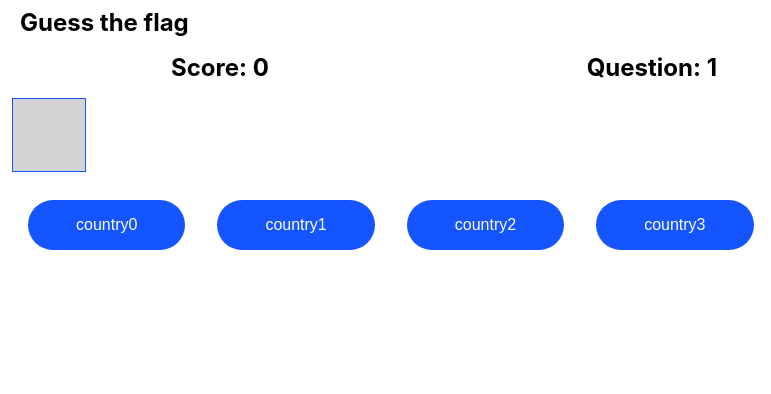
Test: <Game /> › should handle clicking a wrong answer
Expected: the heading with test id "score" reads "Score: 0", [171,53,269,82]
Expected: the heading with test id "question-count" reads "Question: 1", [587,53,717,82]
Click the button with test id "button 1".
click(296, 225)  # box [217,200,375,250]
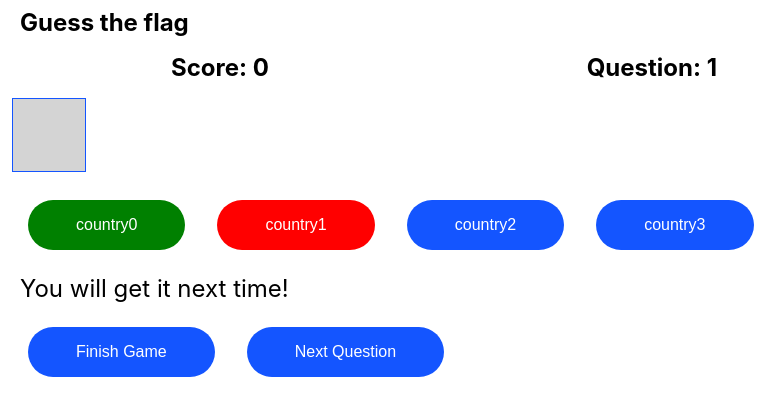
Expected: the heading with test id "score" reads "Score: 0", [171,53,269,82]
Expected: the text with test id "guess-answer-message" reads "You will get it next time!", [20,274,289,303]
Expected: the element with test id "guess-result" is shown, [20,274,444,377]
